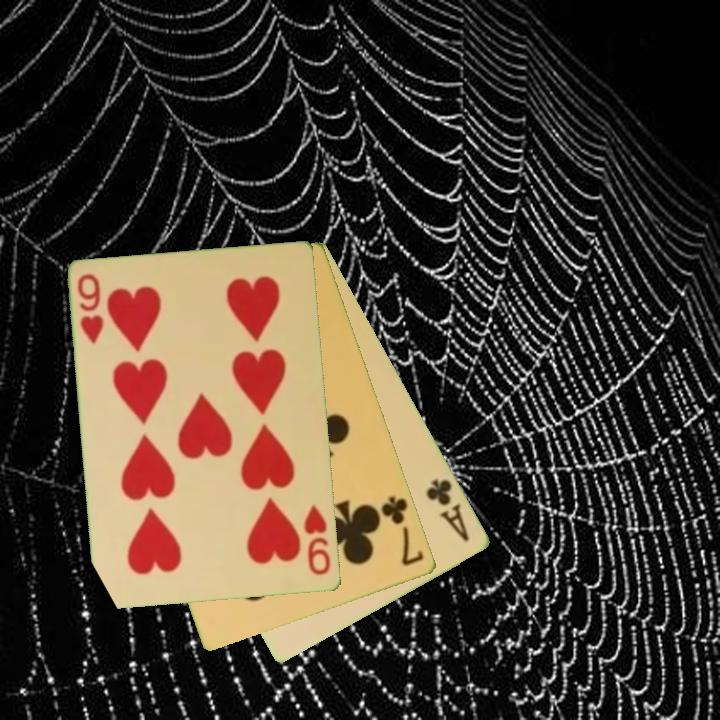7c: (378, 492, 427, 570)
9h: (301, 501, 334, 579), (74, 270, 107, 347)
Ac: (423, 475, 473, 544)
